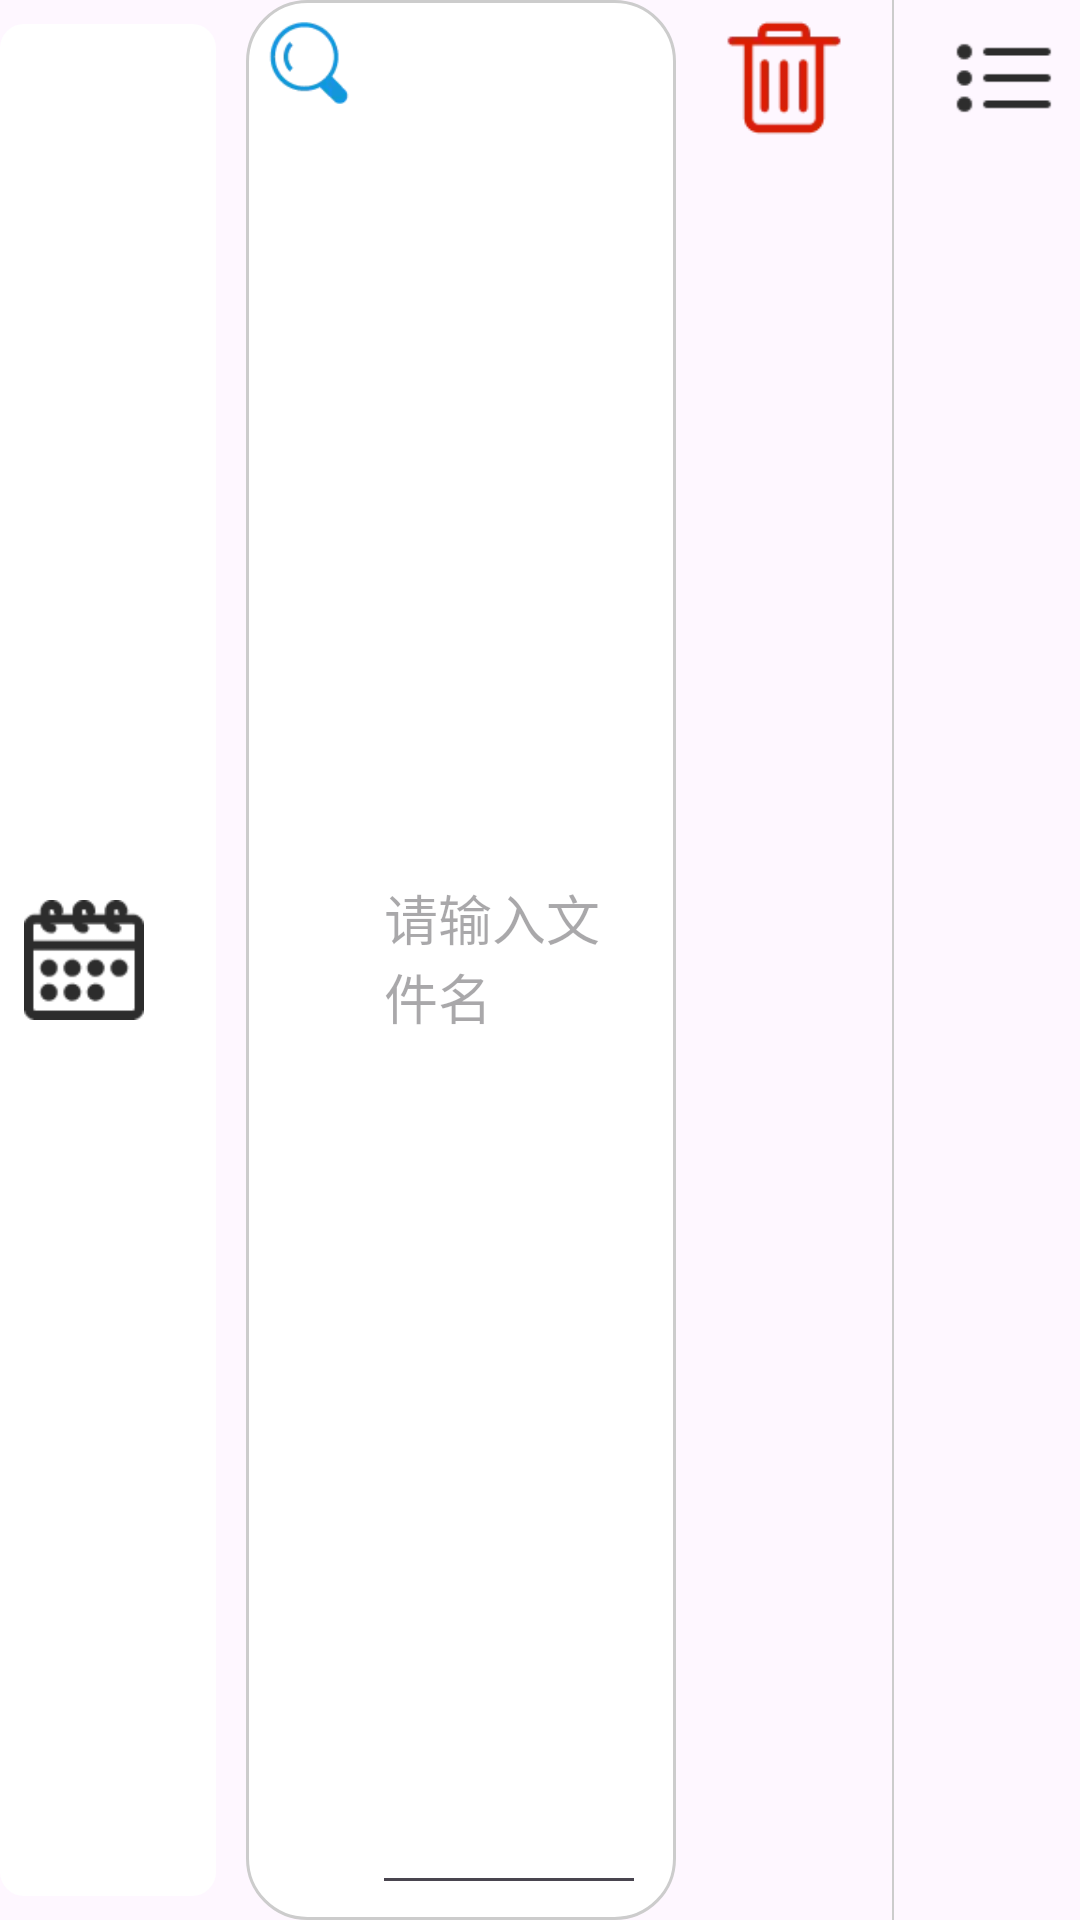

Screen size 1080*1920. Icon name, then its center in pixels as (x=x, y=y):
library deleteall: (x=784, y=78)
library search: (x=308, y=63)
